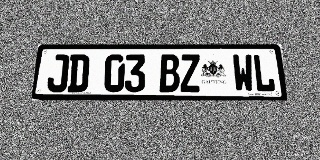0: (104, 54, 125, 92)
3: (125, 54, 145, 92)
B: (160, 54, 180, 92)
D: (67, 54, 90, 92)
J: (46, 54, 70, 92)
L: (252, 54, 276, 92)
W: (232, 54, 255, 92)
Z: (180, 54, 201, 92)
